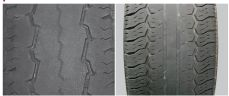bad_condition: (3, 3, 115, 95), (124, 4, 219, 95)
